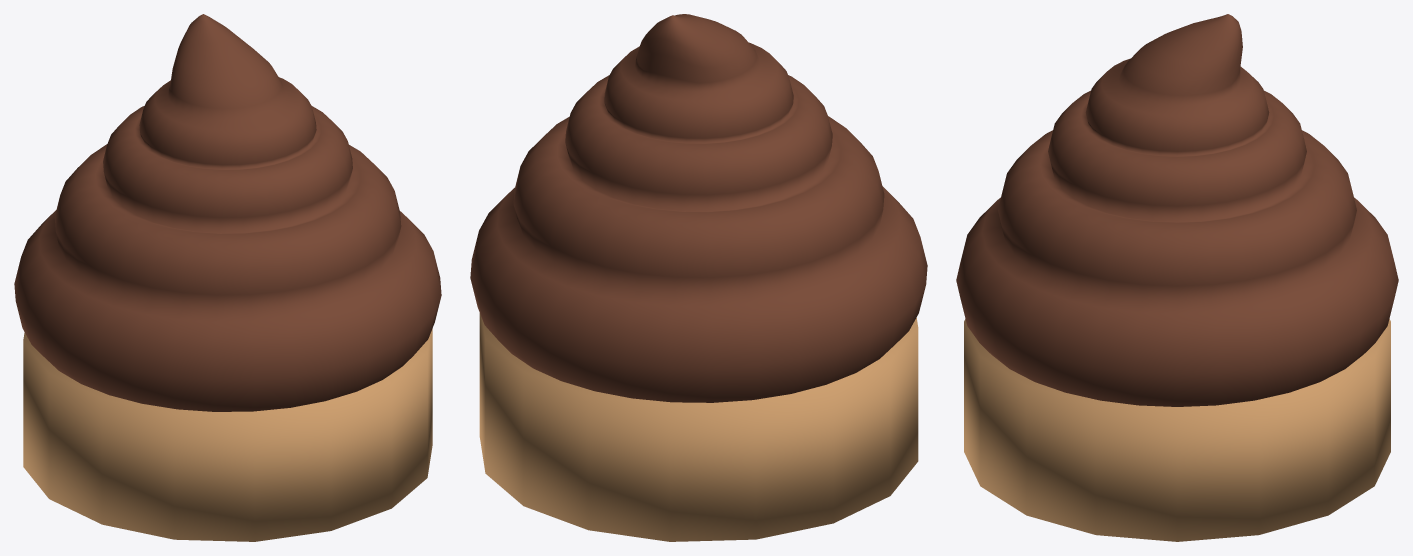
Rendered from takinasp.fbx.
The picture shows the model from 3 angles, left to right: view 1: azimuth 30°, elevation 25°; view 2: azimuth 150°, elevation 25°; view 3: azimuth 270°, elevation 25°; orthographic projection. The views are drawn at different scales.
Visible parts, largest first — view 1: トーラス, 円.001; view 2: トーラス, 円.001; view 3: トーラス, 円.001.
Part boxes in pixels (box(x1,y1,x2,y2)): トーラス: box(14, 14, 441, 411); 円.001: box(23, 329, 432, 541); トーラス: box(470, 14, 927, 402); 円.001: box(479, 313, 918, 541); トーラス: box(956, 14, 1398, 406); 円.001: box(964, 319, 1390, 541).
Bounding box in the file's own units: 75.89 × 82.8 × 75.89.
